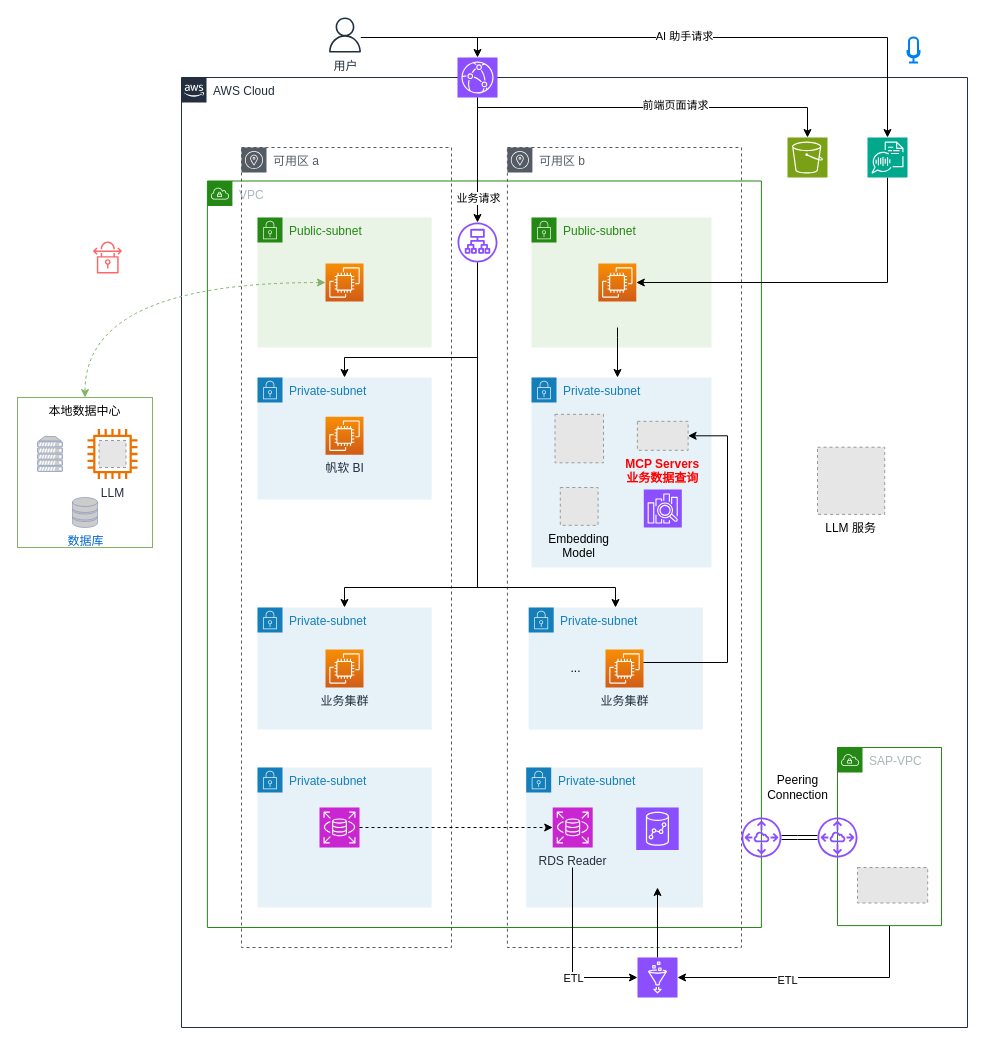
Some shapes in this 985 by 1045 pixel diagram are drawn without their labels. Grey dashed boxes stand in for pictures. Here are the shapes that lost their labels. From the top down, the centre of each, then its label:
At (477,77): "CloudFront".
At (807,157): "S3".
At (887,157): "Transcribe 语音转录文字".
At (107,257): "Site to Site VPN".
At (477,242): "ALB".
At (344,282): "VPN Server".
At (616,282): "AI 助手网关".
At (49,453): "物理机".
At (662,508): "OpenSearch 知识库".
At (339,827): "RDS Master 各业务数据库".
At (657,828): "Redshift 数据湖".
At (657,977): "Glue".
